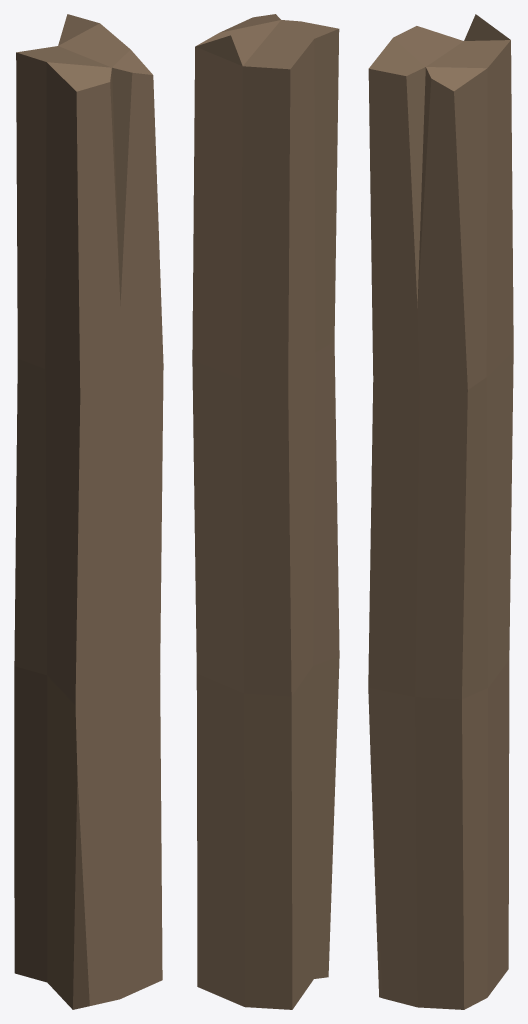
Rendered from beam_02.fbx.
3 views of the same model, side by side, from view 1: azimuth 30°, elevation 25°; view 2: azimuth 150°, elevation 25°; view 3: azimuth 330°, elevation 25° (orthographic). The views are drawn at different scales.
Visible parts, largest first — view 1: beam_02; view 2: beam_02; view 3: beam_02.
Part boxes in pixels (x1,y1,x2,y2): beam_02: (14, 14, 163, 1009); beam_02: (192, 14, 339, 1009); beam_02: (368, 14, 513, 1009).
Size of the model in its own units: 11.98 by 108 by 12.27.
Materials: 1 (1 with a texture image).
